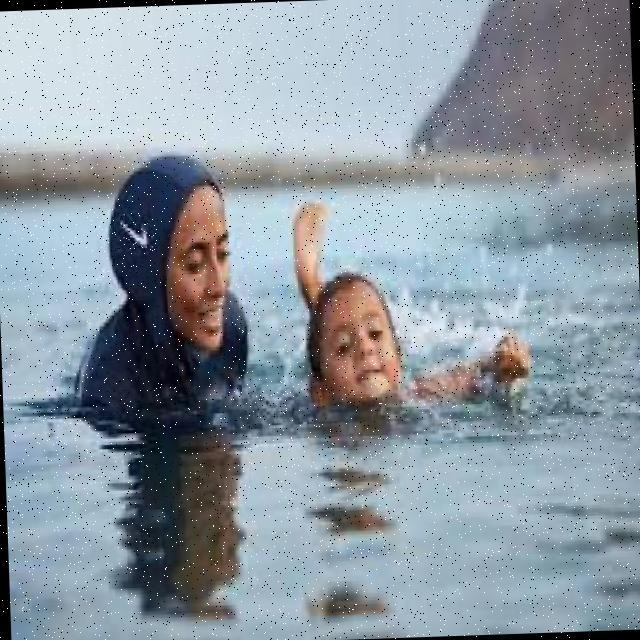Nike: (120, 212, 154, 249)
